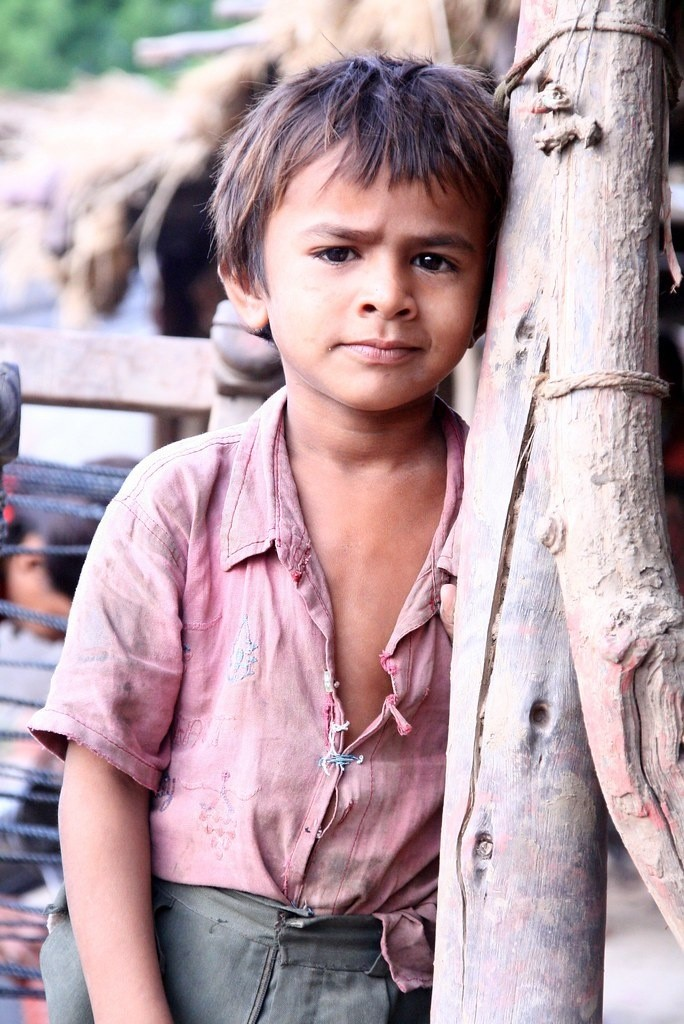face_no_mask: (213, 58, 506, 406)
